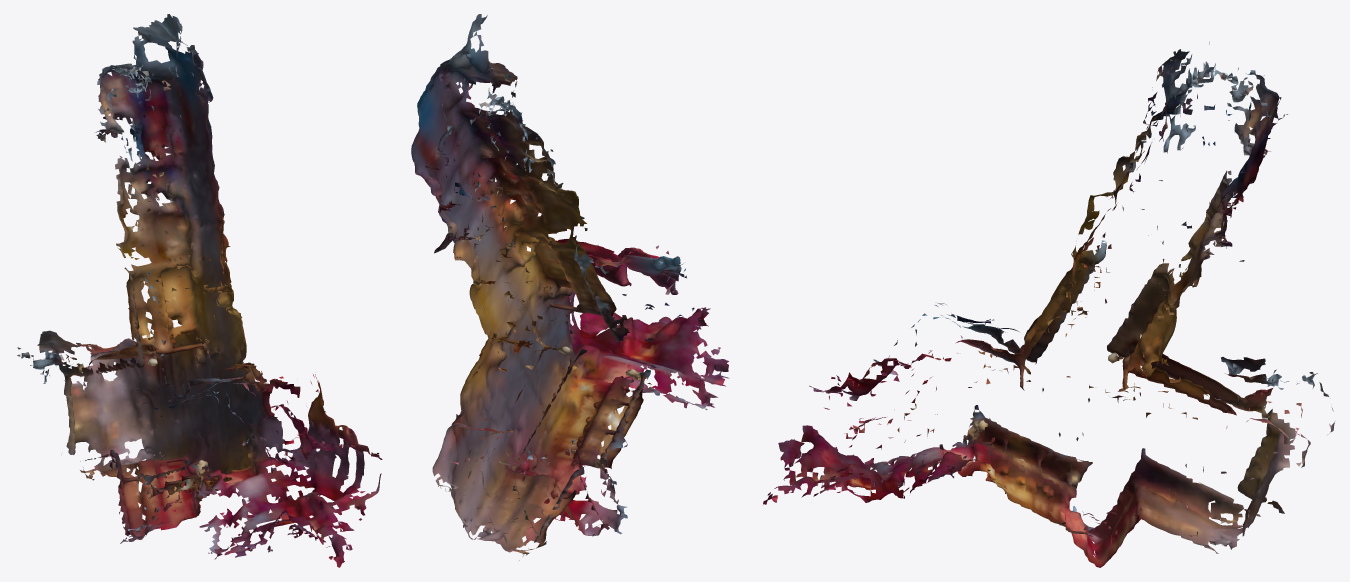
3 views of the same model, side by side, from view 1: azimuth 30°, elevation 25°; view 2: azimuth 150°, elevation 25°; view 3: azimuth 270°, elevation 25° (orthographic). The views are drawn at different scales.
Parts seen in each view (by area): view 1: world; view 2: world; view 3: world.
Part boxes in pixels (left/top/right/bottom): world: left=17, top=14, right=382, bottom=567; world: left=411, top=14, right=729, bottom=560; world: left=763, top=41, right=1334, bottom=567.
Size of the model in its own units: 11.68 by 32.98 by 29.93.
